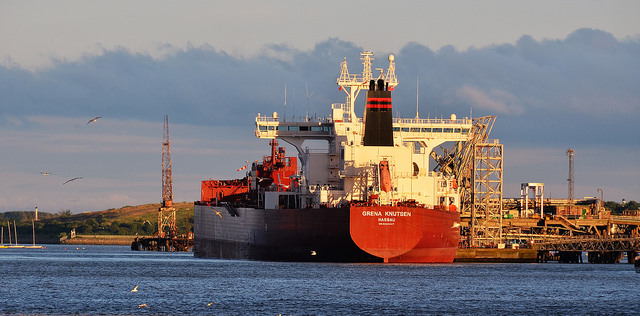tanker: (198, 41, 470, 262)
